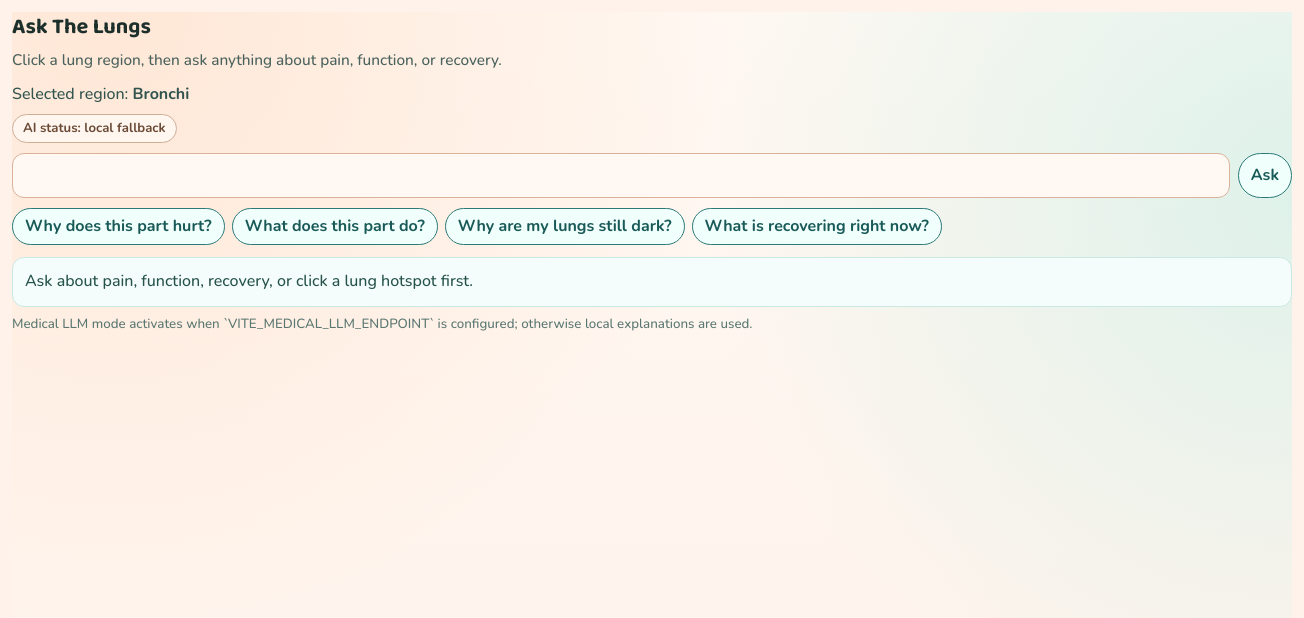
Test case: LungCoach › sends rolling session memory between consecutive questions
Type "First question?" into the field named "ask lungs a question" at (621, 176), box [12,153,1230,198]
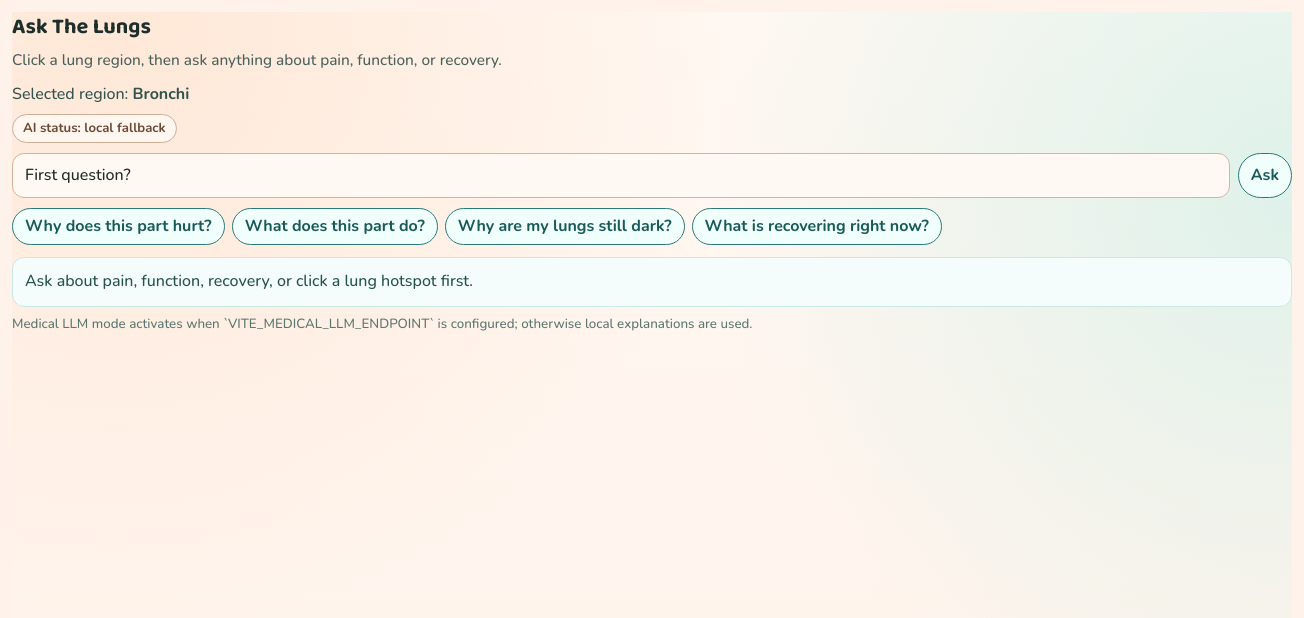
Click the button "Ask" at (1265, 176), box [1238,153,1292,198]
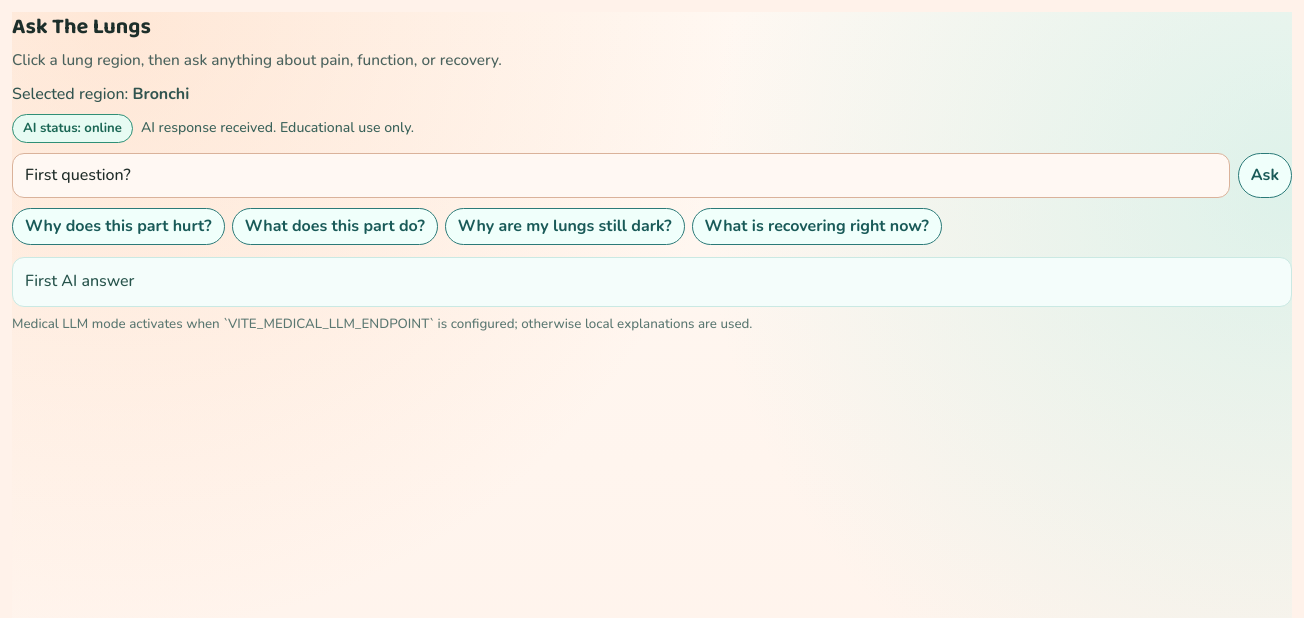
Check: the text with test id "qa-answer" reads "First AI answer", box [25,270,134,292]
Replace the text in the field named "ask lungs a question" with "Second question?" at (621, 176), box [12,153,1230,198]
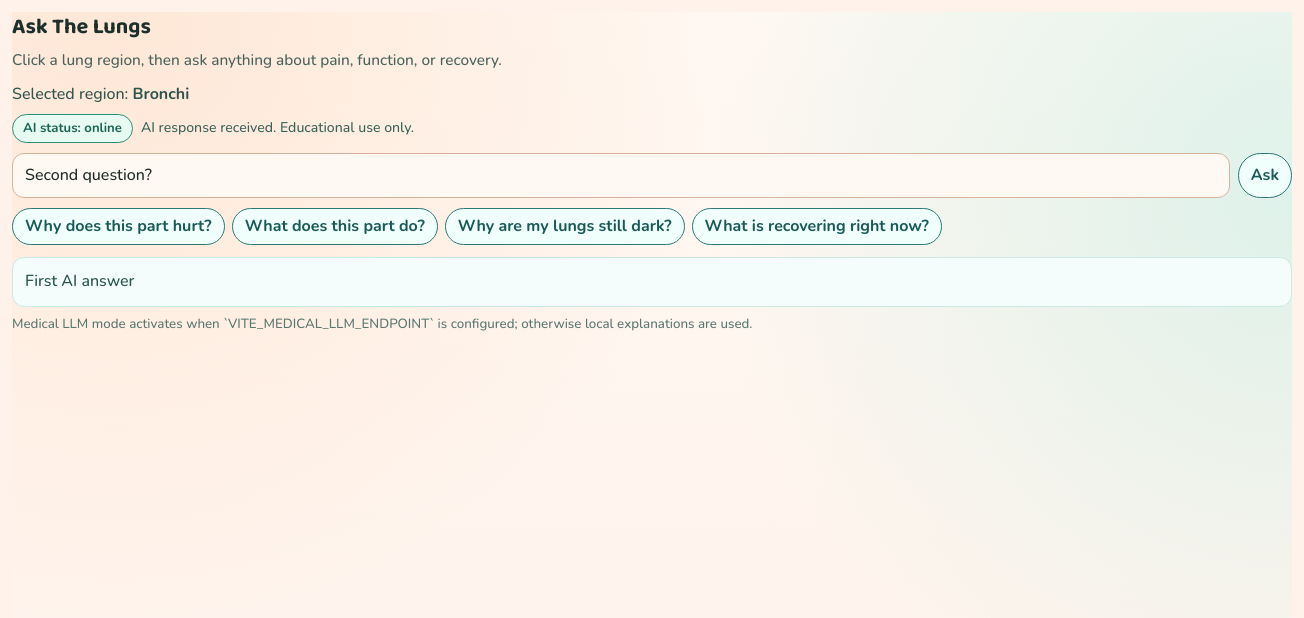
Click the button "Ask" at (1265, 176), box [1238,153,1292,198]
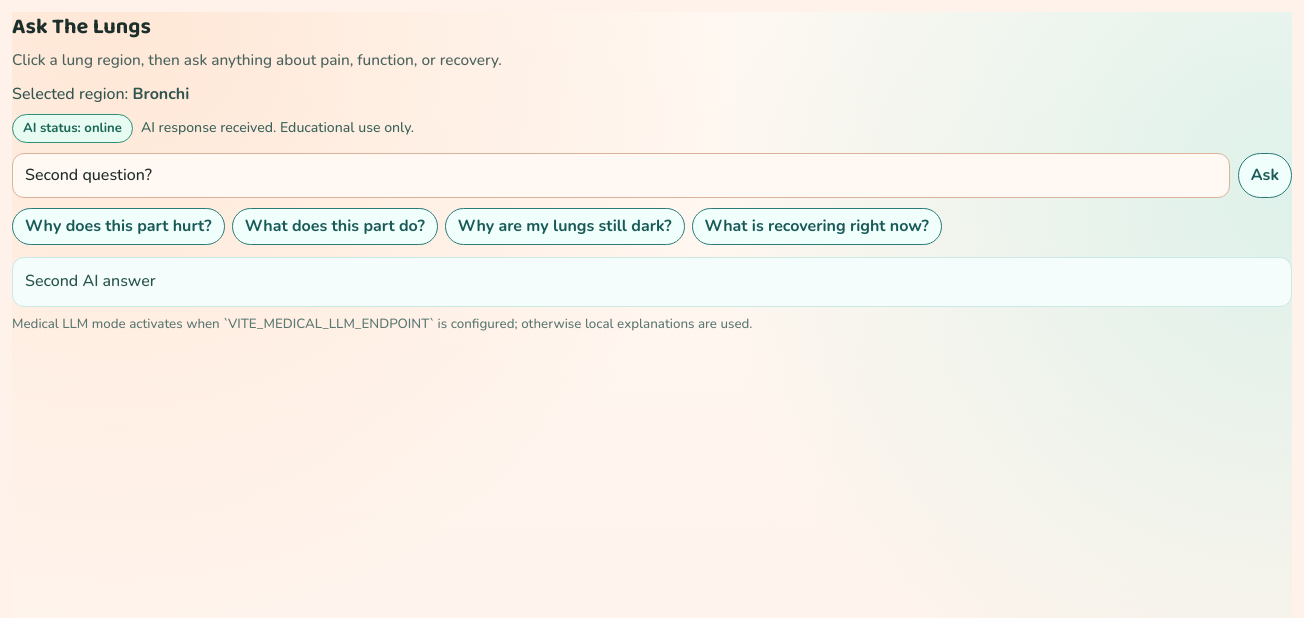
Check: the text with test id "qa-answer" reads "Second AI answer", box [25,270,156,292]
